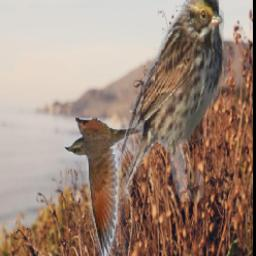Cuckoo: (65, 119, 159, 256)
Sparrow: (123, 0, 225, 202)
